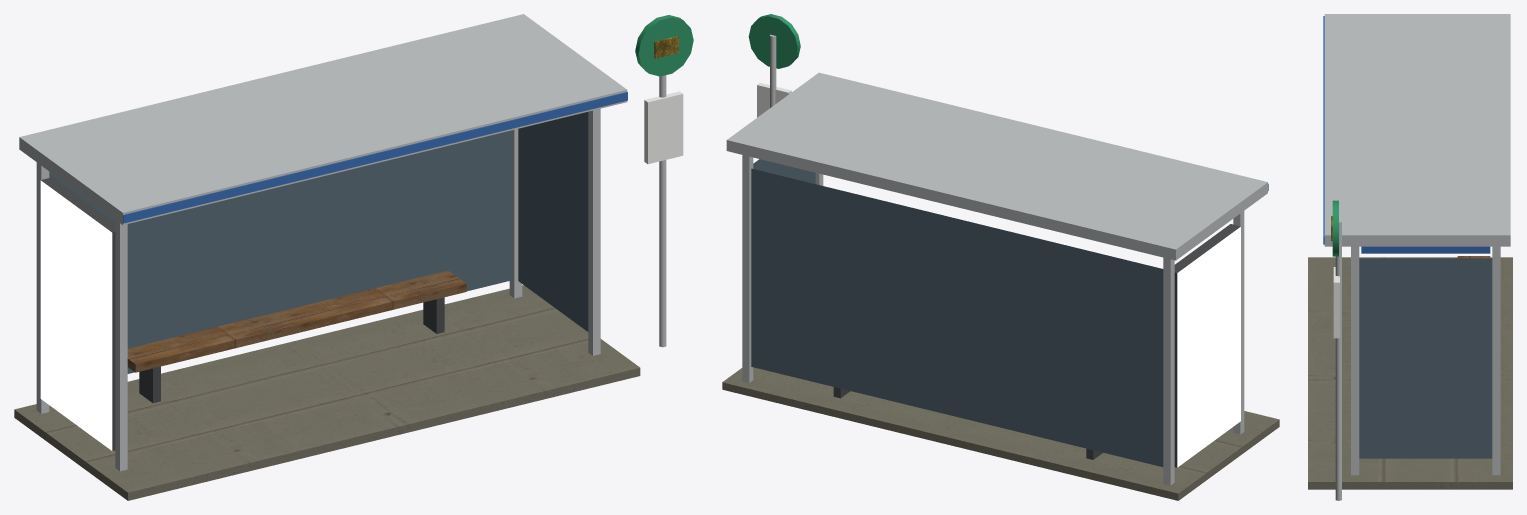
Rendered from bus_stop.glb.
The picture shows the model from 3 angles, left to right: view 1: azimuth 30°, elevation 25°; view 2: azimuth 150°, elevation 25°; view 3: azimuth 270°, elevation 25°; orthographic projection. The views are drawn at different scales.
Parts seen in each view (by area): view 1: bus_stop_body; view 2: bus_stop_body; view 3: bus_stop_body.
Boxes of the visible parts, x1=… form: bus_stop_body: x1=14, y1=14, x2=693, y2=500; bus_stop_body: x1=722, y1=14, x2=1279, y2=500; bus_stop_body: x1=1308, y1=14, x2=1512, y2=500.
Bounding box in the file's own units: 0.294 × 0.1636 × 0.1.
Materials: 11 (3 with a texture image).
